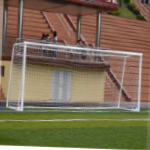goals: (4, 40, 146, 114)
